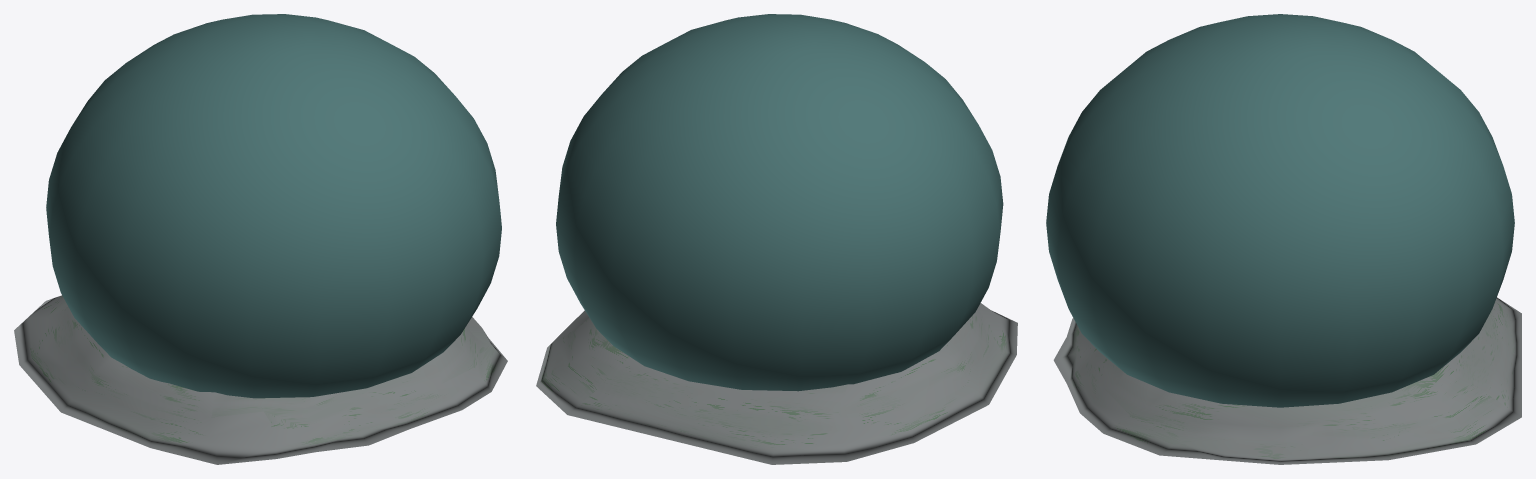
File: WaterDome.fbx
The picture shows the model from 3 angles, left to right: view 1: azimuth 30°, elevation 25°; view 2: azimuth 150°, elevation 25°; view 3: azimuth 270°, elevation 25°; orthographic projection. The views are drawn at different scales.
Parts seen in each view (by area): view 1: pSphere1, pCube1; view 2: pSphere1, pCube1; view 3: pSphere1, pCube1.
Boxes of the visible parts, bbox=[...] form: pSphere1: bbox=[46, 14, 501, 398]; pCube1: bbox=[14, 295, 507, 464]; pSphere1: bbox=[556, 14, 1003, 391]; pCube1: bbox=[536, 303, 1017, 464]; pSphere1: bbox=[1046, 14, 1514, 407]; pCube1: bbox=[1053, 297, 1521, 464].
Bounding box in the file's own units: 1069 × 799 × 1046.
2 materials, 1 textured.
